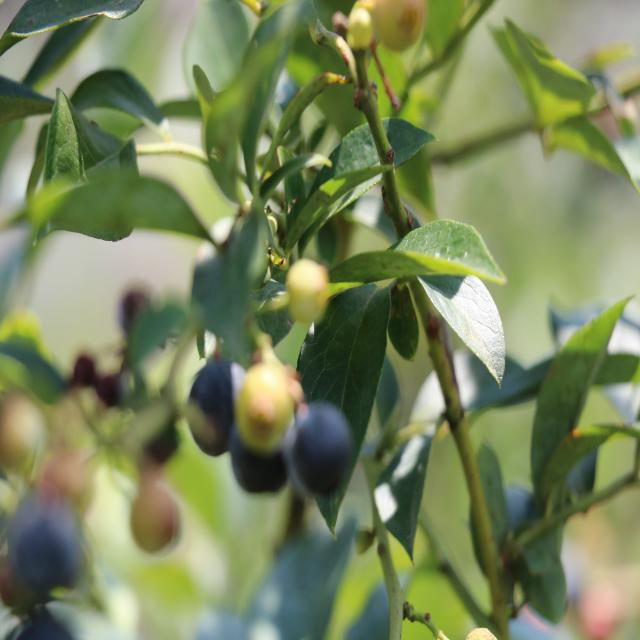blueberry: (13, 498, 84, 596), (186, 363, 248, 453), (290, 406, 353, 489), (227, 428, 292, 496)
blueberry-unripe: (283, 256, 336, 330)
